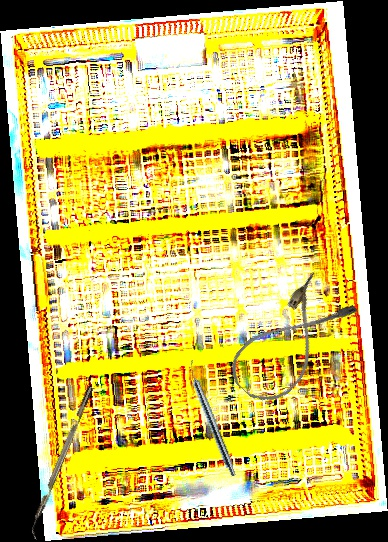Cannula: (221, 269, 361, 414)
Chopper: (24, 385, 102, 541)
Handpiece: (183, 359, 240, 478)
